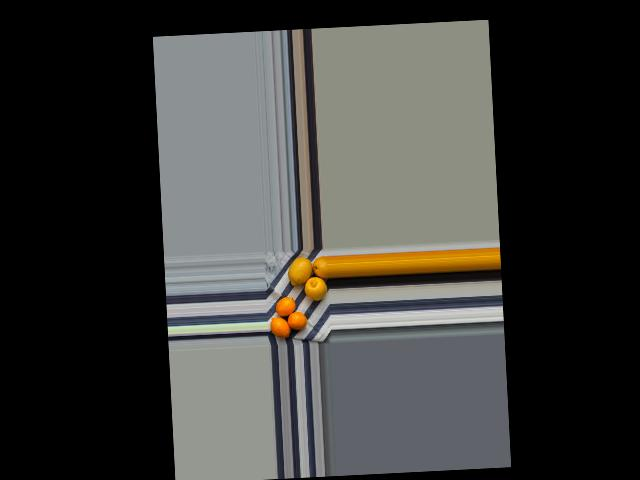lemon: (310, 253, 329, 279)
